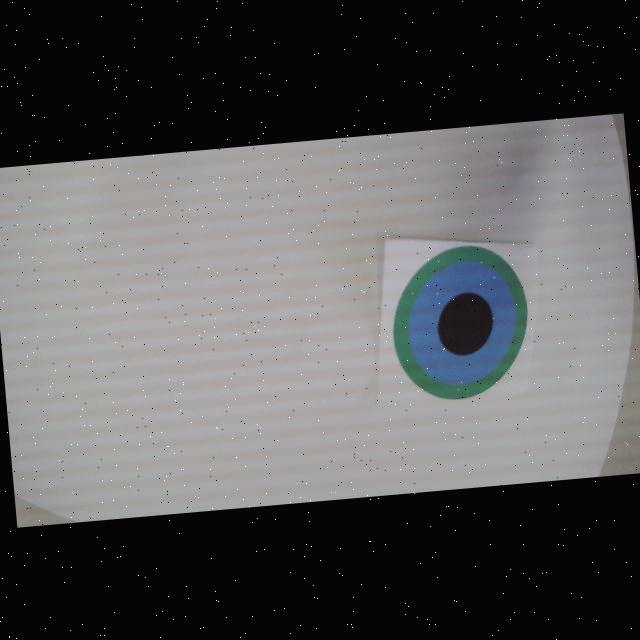COGNITIVE: (386, 240, 536, 405)
